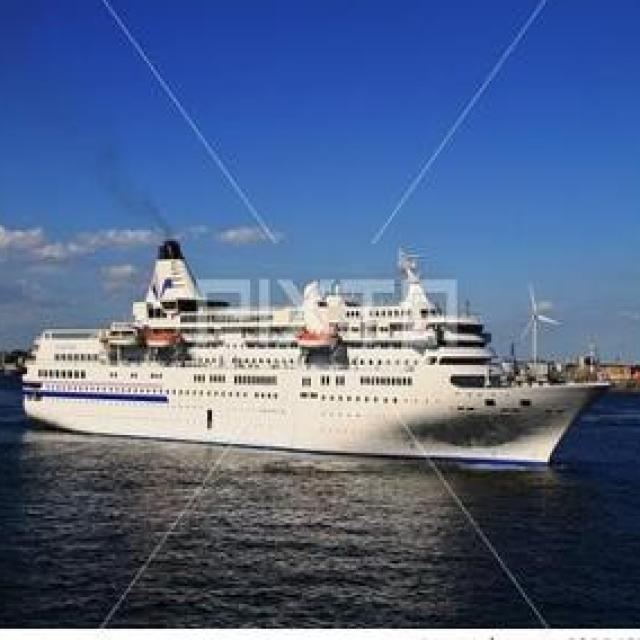passenger ship: (22, 240, 596, 470)
